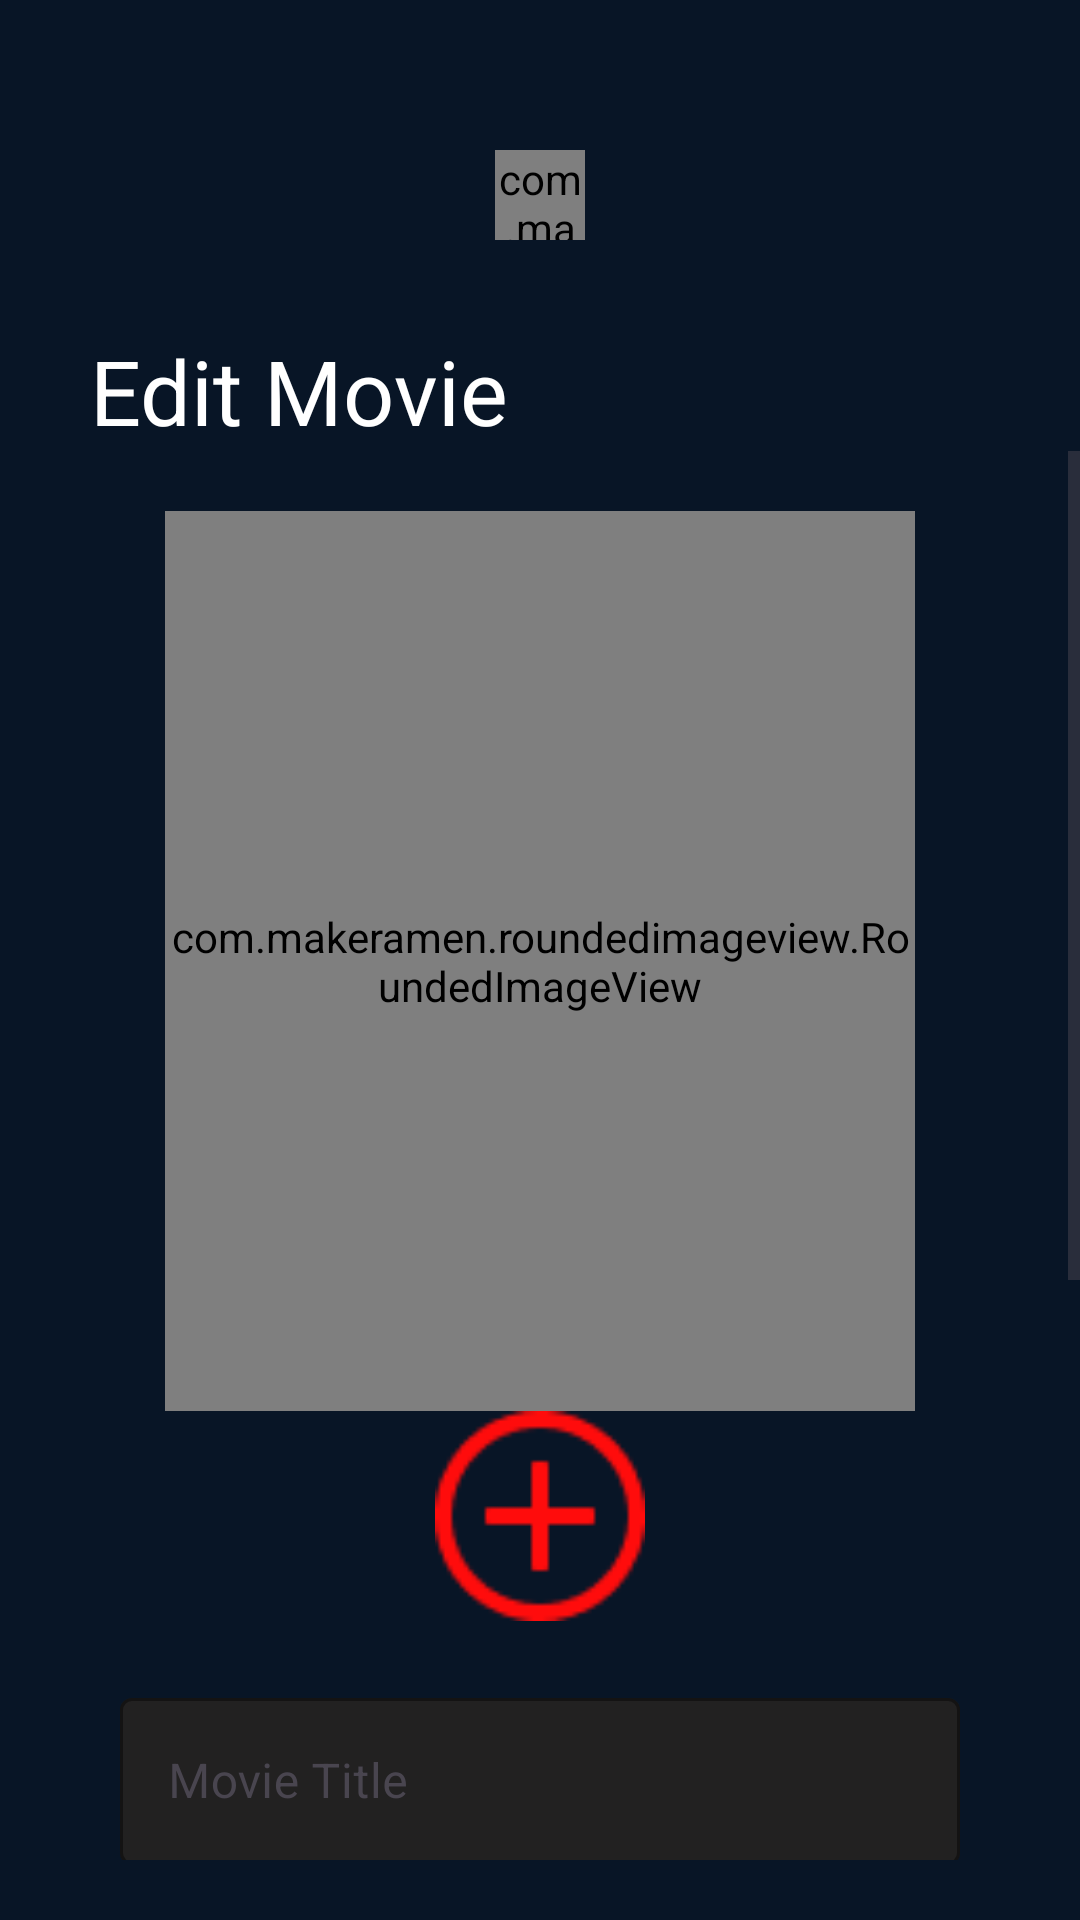

Icon click points for this 1080px x 1920px phone screenshot, format (x,y):
tambahhh: (540,1516)
